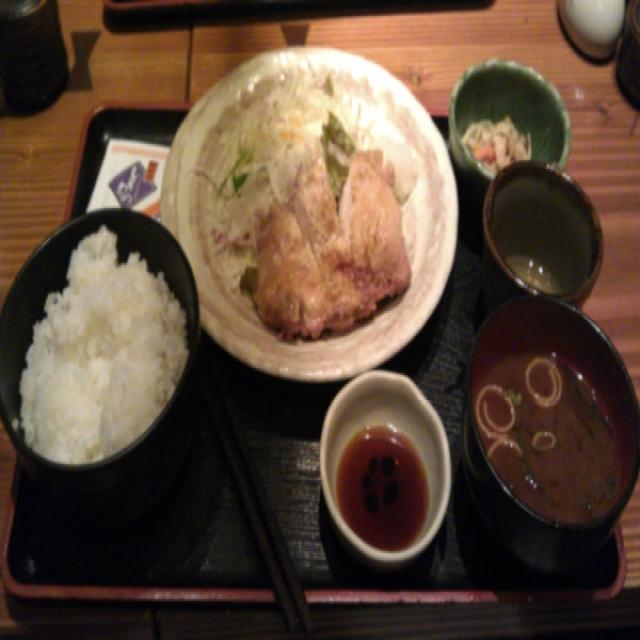汤锅炖物: (464, 304, 640, 571)
米饭主食: (0, 215, 211, 517)
蔬菜料理: (188, 48, 397, 192)
